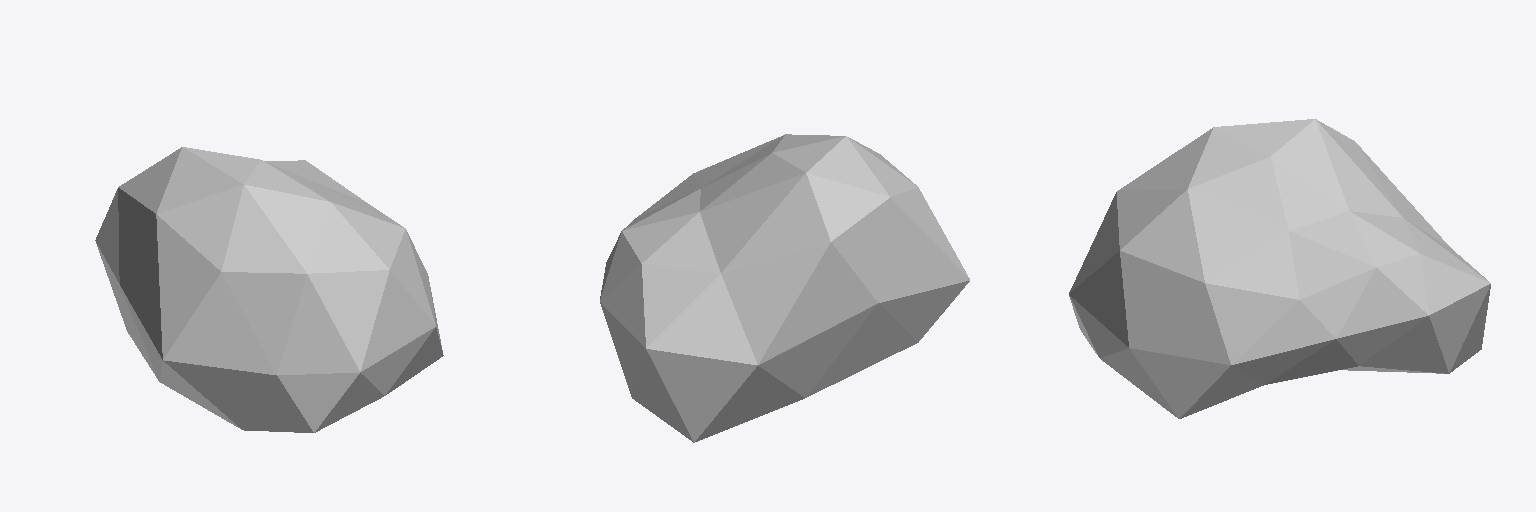
File: rock1.obj
The picture shows the model from 3 angles: view 1: azimuth 30°, elevation 25°; view 2: azimuth 150°, elevation 25°; view 3: azimuth 270°, elevation 25°; orthographic projection.
Parts seen in each view (by area): view 1: r2_Icosphere.002; view 2: r2_Icosphere.002; view 3: r2_Icosphere.002.
Part boxes in pixels (bbox=[...]): r2_Icosphere.002: bbox=[95, 147, 443, 432]; r2_Icosphere.002: bbox=[600, 134, 969, 442]; r2_Icosphere.002: bbox=[1069, 119, 1490, 418].
Size of the model in its own units: 2.35 by 1.67 by 2.91.